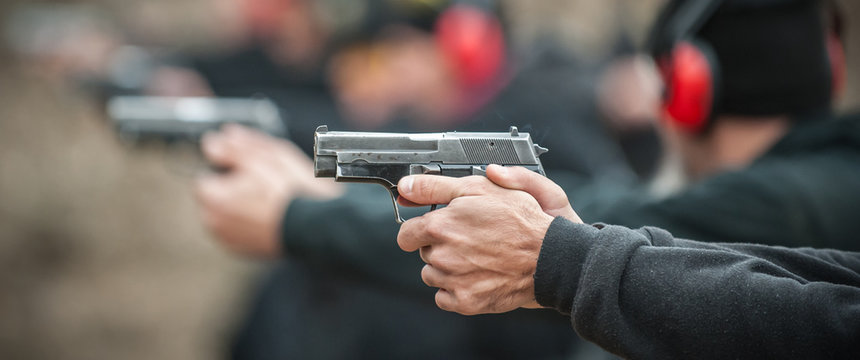Asalto: (316, 130, 525, 165)
